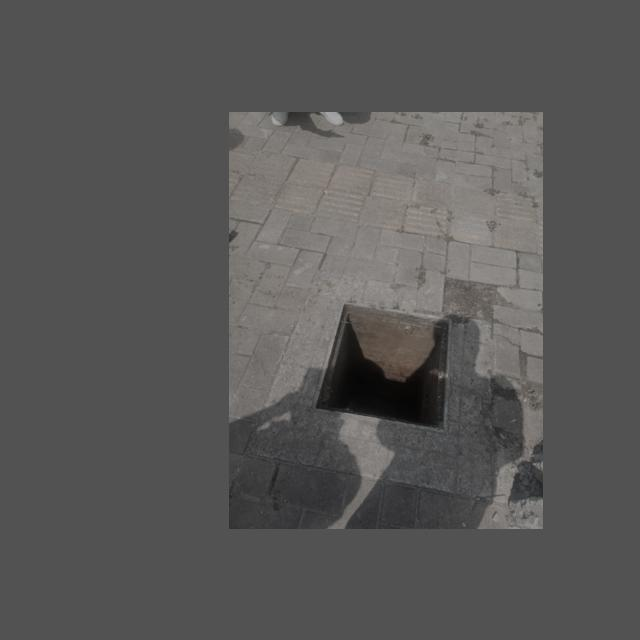lose: (311, 302, 452, 433)
